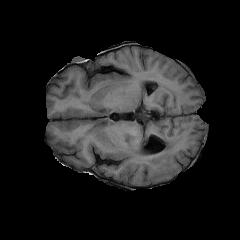glioma: (117, 133, 175, 169)
